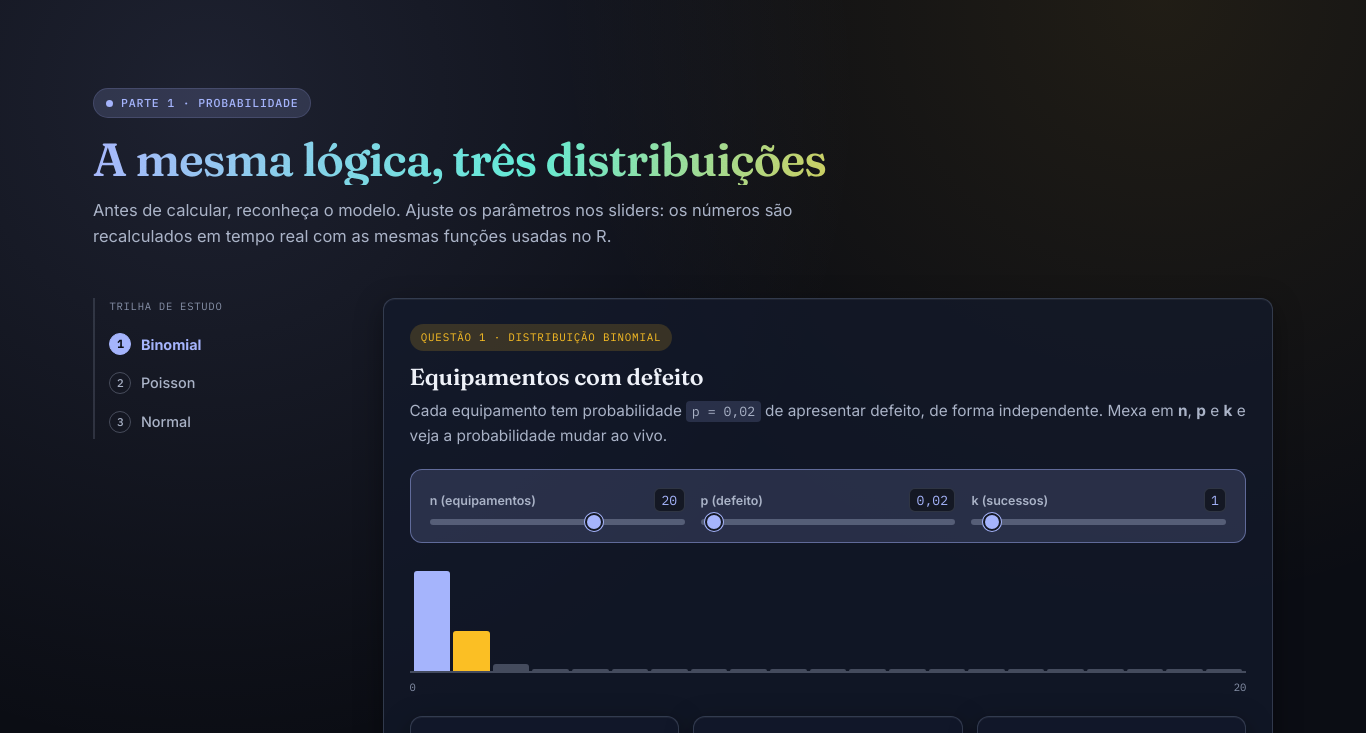
Test: ProbabilityLab → quadro animado (unificação) › mostra uma questão por vez, trocando pela trilha
Expected: the heading "Equipamentos com defeito" is shown, [410,362,703,392]
Expected: the field labelled "μ (g)" is not shown
Click the tab "3 Normal" at (226, 422), box [109,404,343,439]
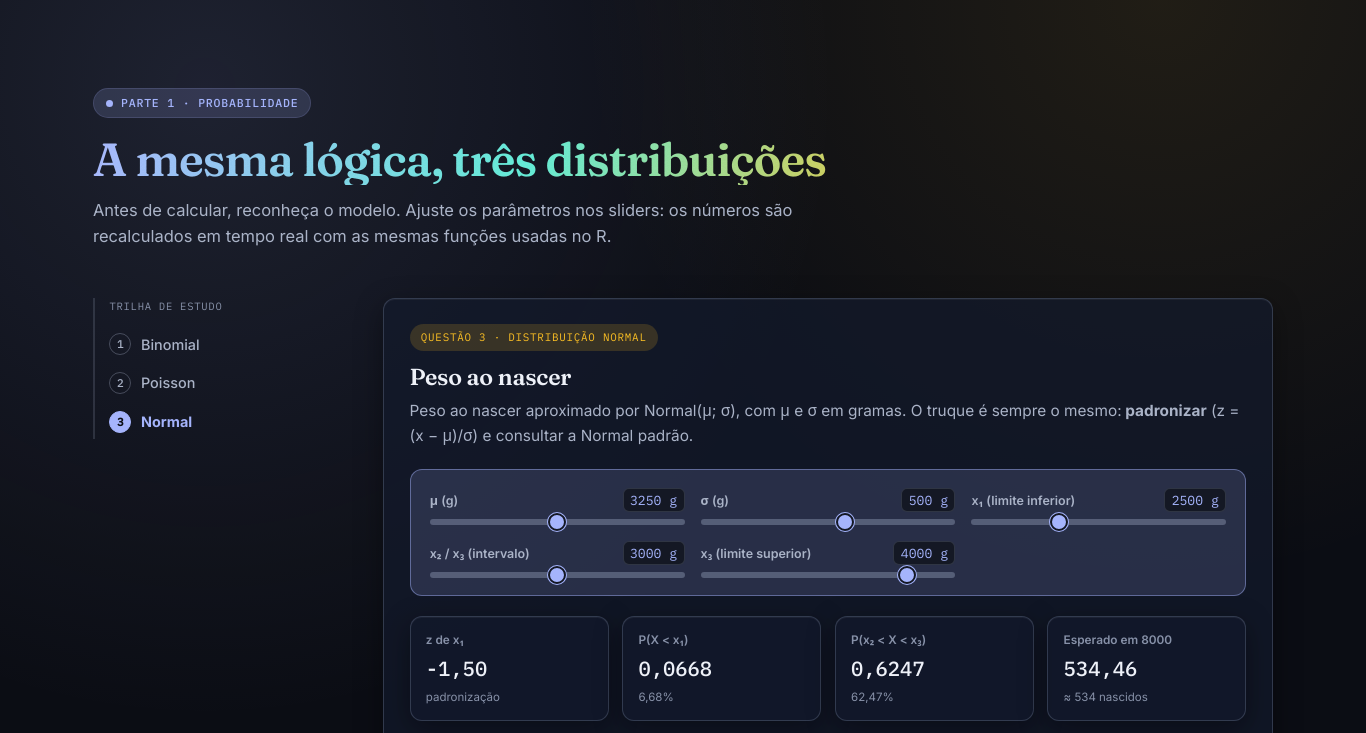
Now the heading "Peso ao nascer" is shown, box [410,362,571,392]
Now the slider labelled "μ (g)" is shown, box [430,519,685,525]
Now the heading "Equipamentos com defeito" is gone
